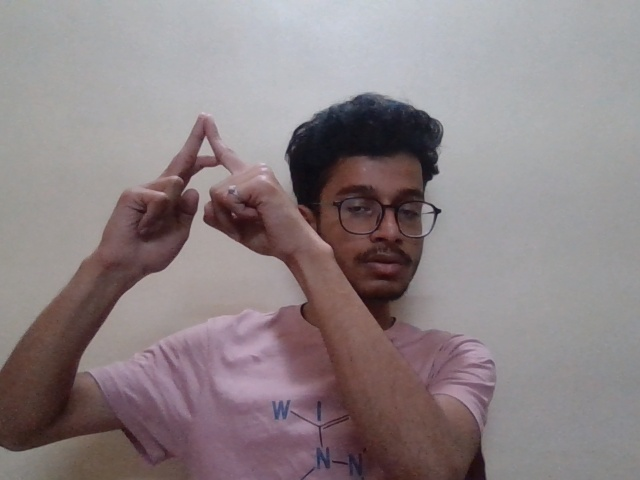A: (84, 102, 357, 286)
